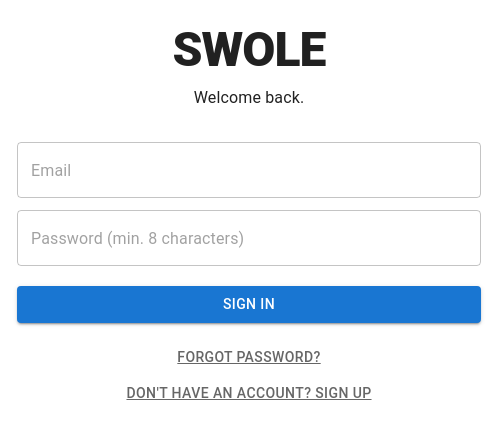
Test: SignInPage sign-in › does not name a cause it has not verified when sign-in fails
This screenshot has width=499, height=433.
In the field with placeholder "Email": point(249, 170) [17, 142, 481, 198], type "someone@example.com"
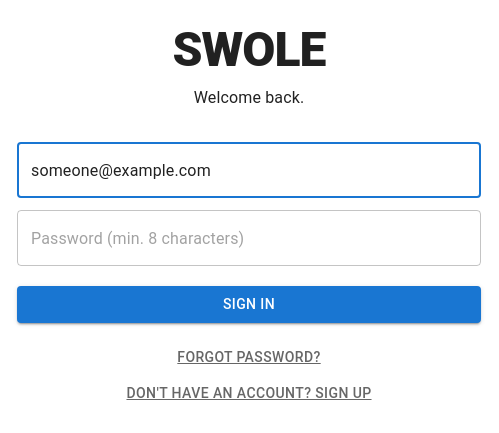
In the password field with placeholder "Password (min. 8 characters)": point(249, 238) [17, 210, 481, 266], type "hunter2hunter2"
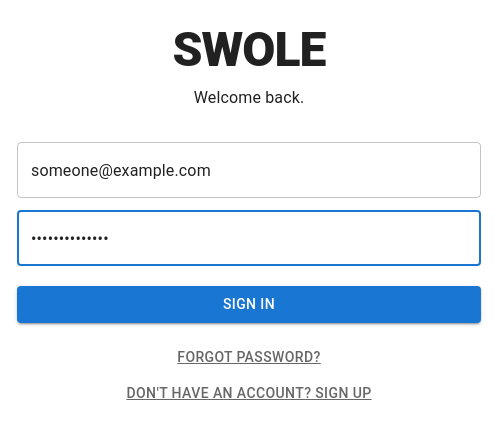
Click the button "Sign In": point(249, 305) [17, 286, 481, 323]
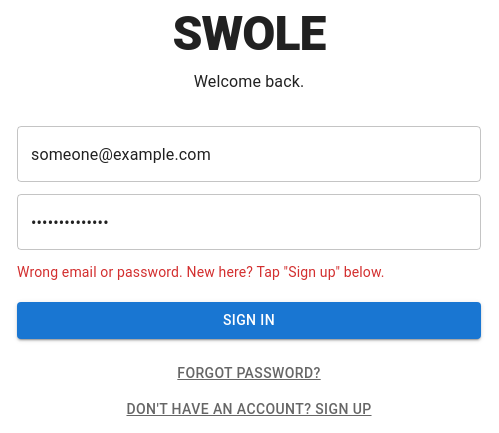
Expected: the text "Wrong email or password. New here? Tap \"Sign up\" below." is shown, [17, 264, 385, 280]
